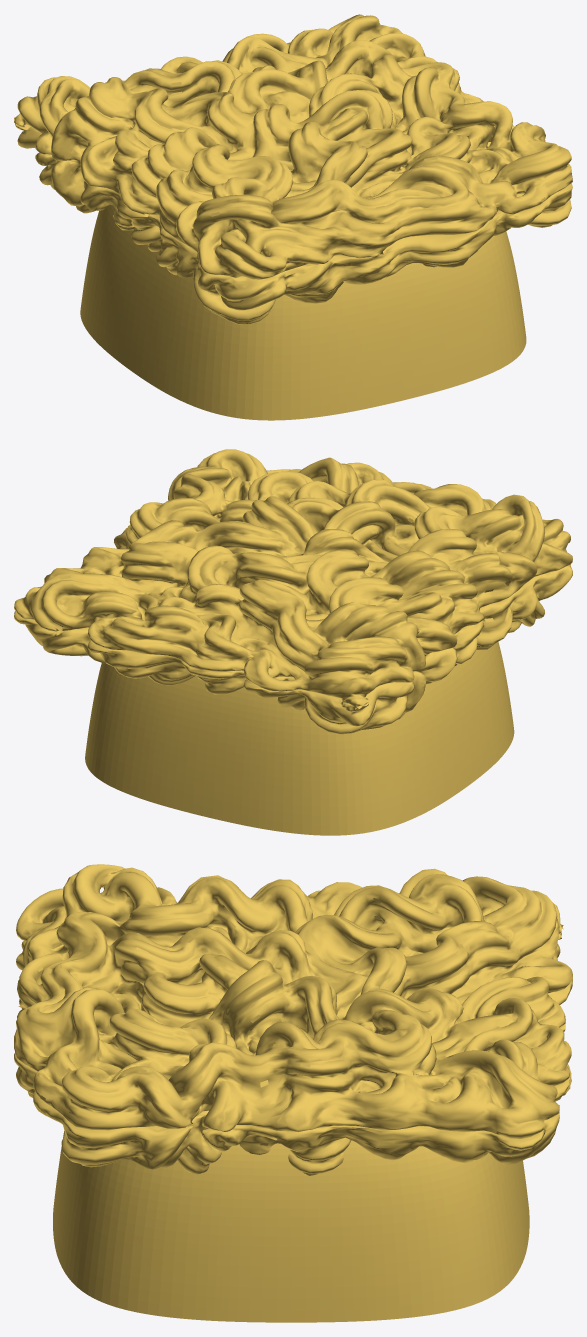
Rendered from keycap_Noodles.glb.
The picture shows the model from 3 angles, top to bottom: view 1: azimuth 30°, elevation 25°; view 2: azimuth 150°, elevation 25°; view 3: azimuth 270°, elevation 25°; orthographic projection. The views are drawn at different scales.
Parts seen in each view (by area): view 1: keycap_Noodles; view 2: keycap_Noodles; view 3: keycap_Noodles.
Boxes of the visible parts, left/top/right/bottom form: keycap_Noodles: left=14, top=14, right=572, bottom=420; keycap_Noodles: left=14, top=449, right=572, bottom=835; keycap_Noodles: left=14, top=864, right=572, bottom=1322.
Bounding box in the file's own units: 21.42 × 12.36 × 22.46.
